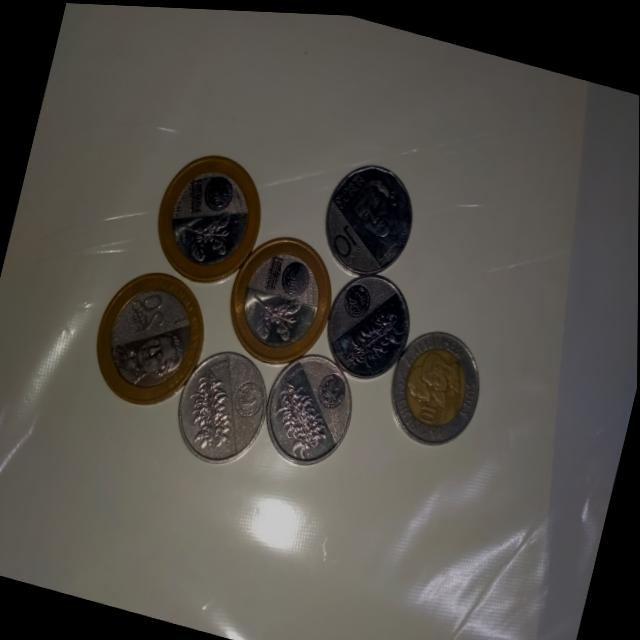10_New_Front: (322, 204, 372, 263)
10_Old_Front: (383, 320, 490, 446)
20_New_Back: (154, 187, 250, 284), (231, 283, 313, 360)
20_New_Front: (122, 281, 177, 344)
5_New_Back: (343, 296, 410, 374)
